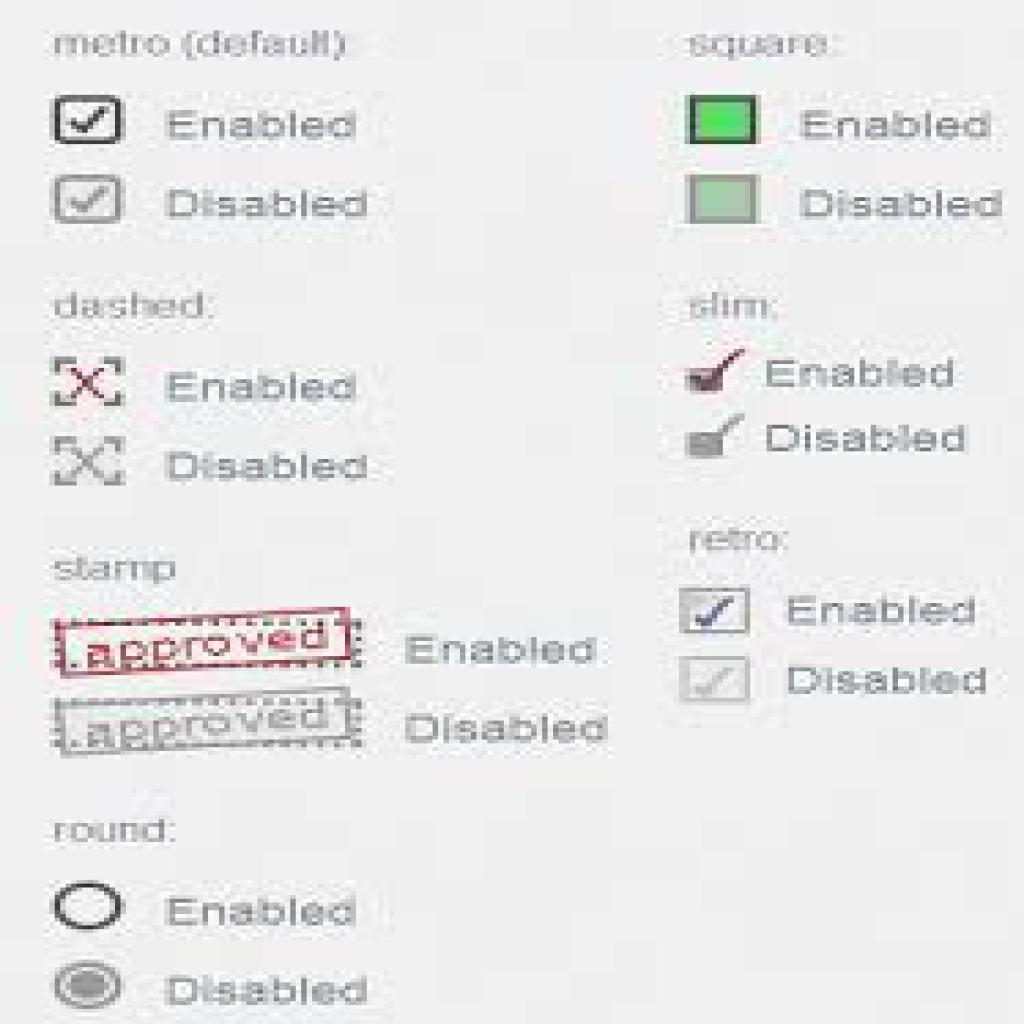checkbox: (683, 90, 770, 150), (675, 650, 755, 710), (676, 583, 756, 641), (687, 172, 765, 229), (50, 93, 128, 148), (52, 172, 125, 229)
radio: (43, 956, 121, 1020), (46, 874, 123, 938)
